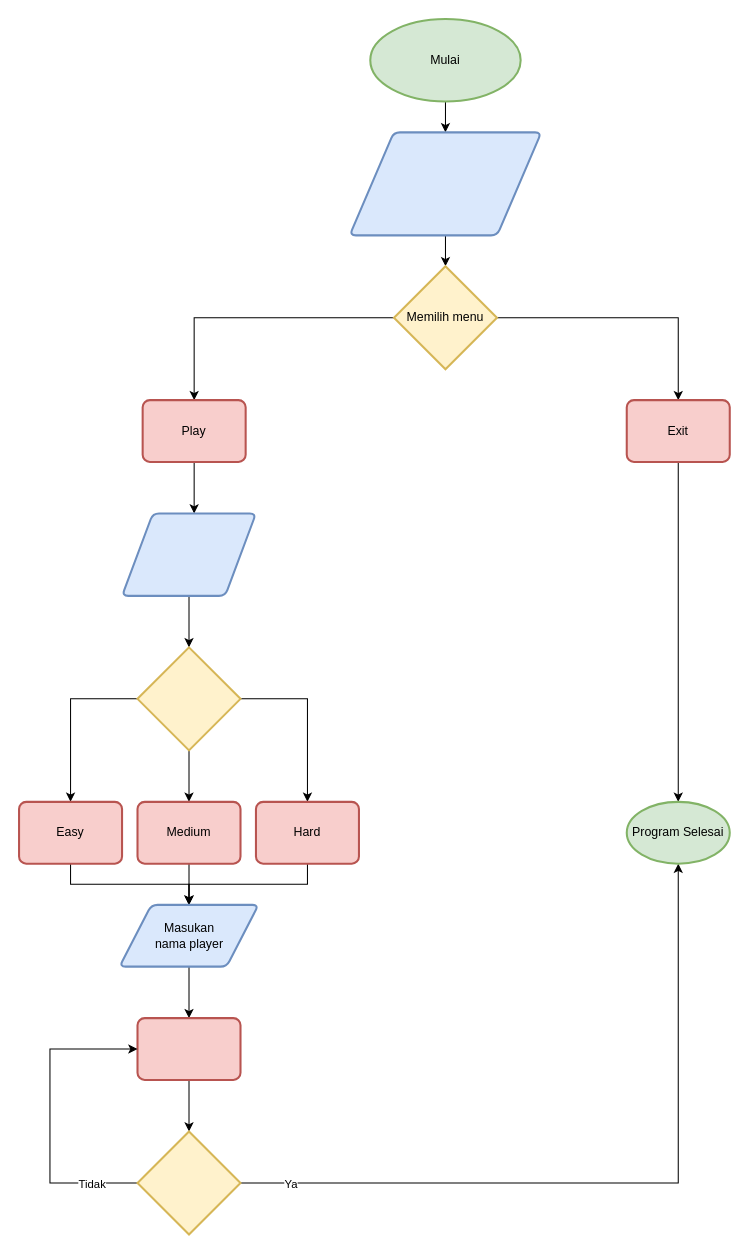
Some shapes in this 748 by 1252 pixel diagram are drawn without their labels. The shapes that lost their labels are listed below. From the top down, each one's centre as x and y in pixels, then its label:
At pixel 445 183: "Menampilkan Menu: 1. Play 2. Leaderboard 3. Exit".
At pixel 188 554: "Menampilkan mode tingkat kesulitan".
At pixel 188 698: "Memilih mode".
At pixel 188 1048: "Memainkan Game flip square".
At pixel 188 1182: "Kalah?".
